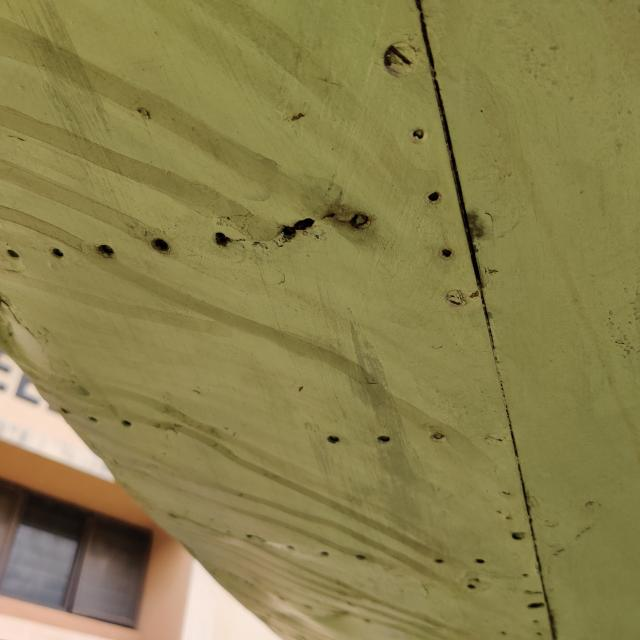crack: (259, 202, 324, 255)
